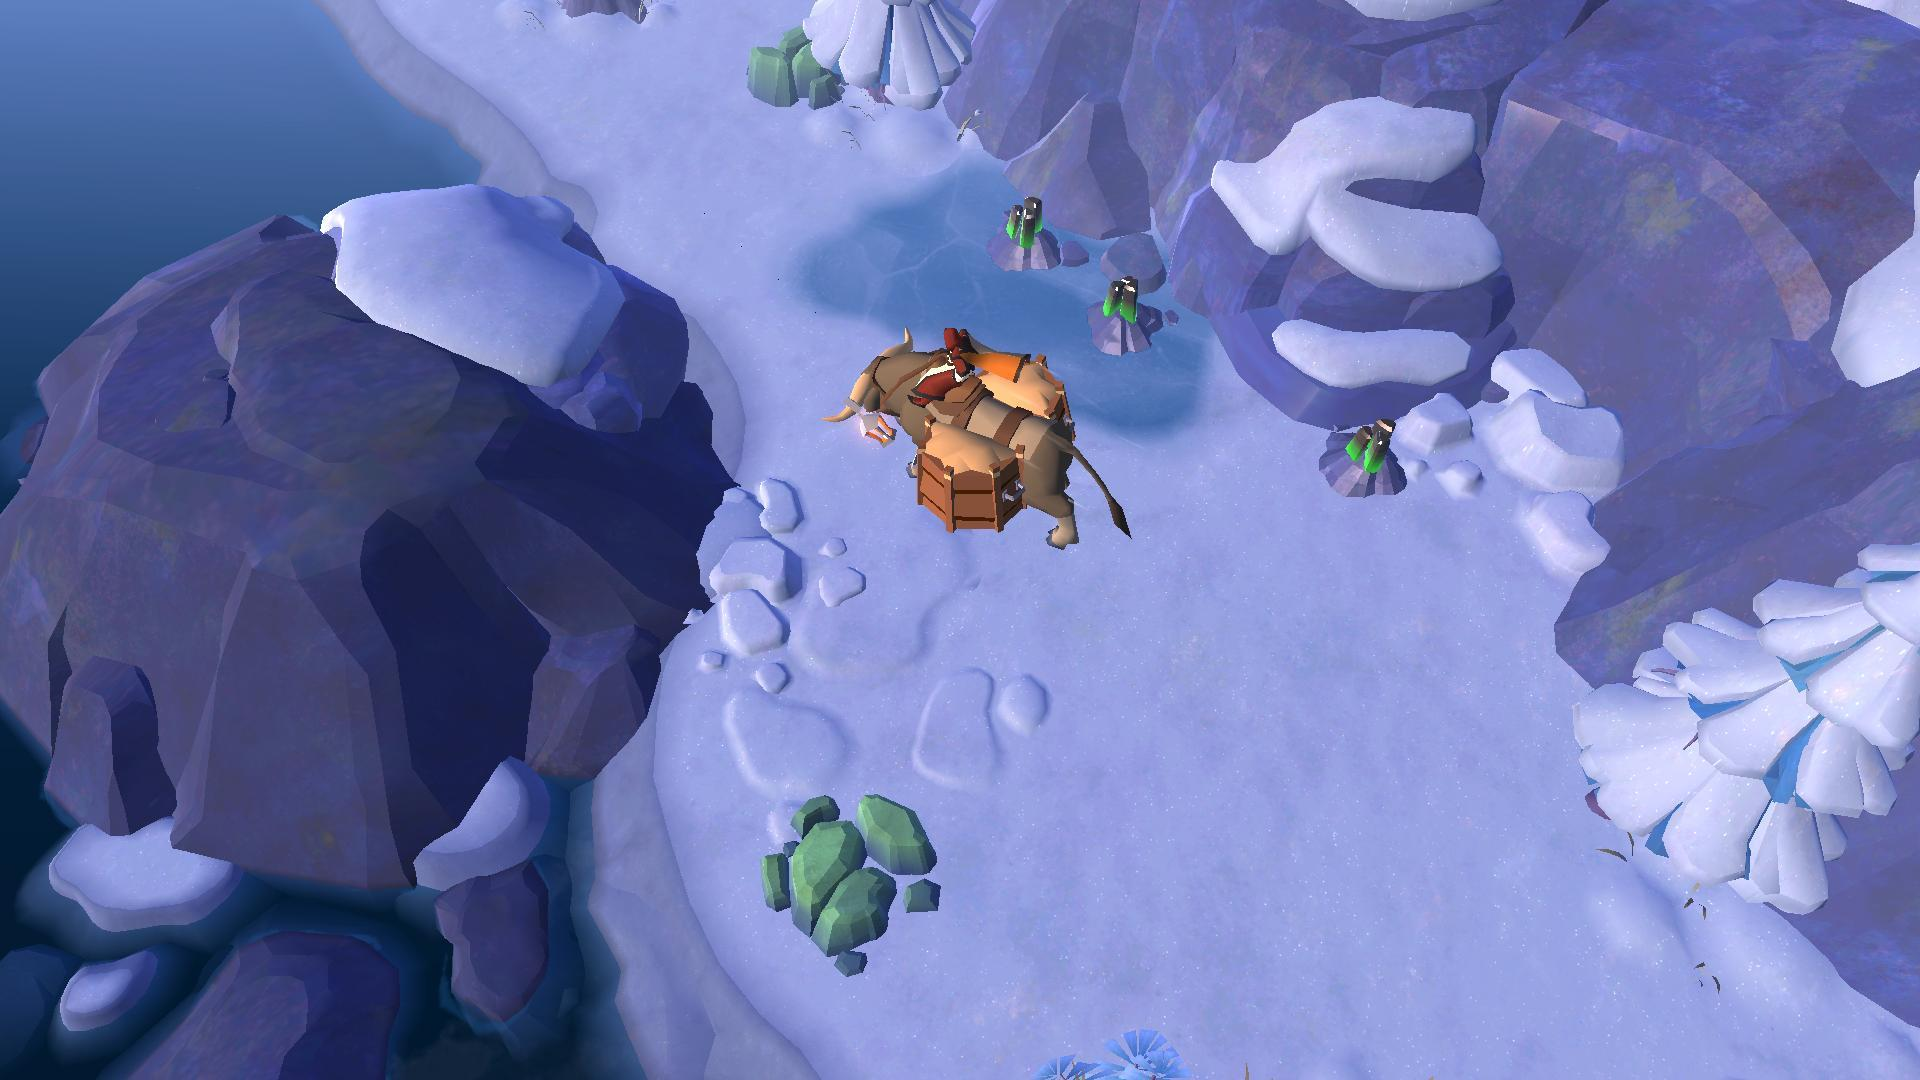ore_t3: (1342, 415, 1402, 480), (1092, 269, 1145, 331), (996, 190, 1044, 252)
rock_t3: (749, 787, 944, 978), (741, 20, 849, 108)
